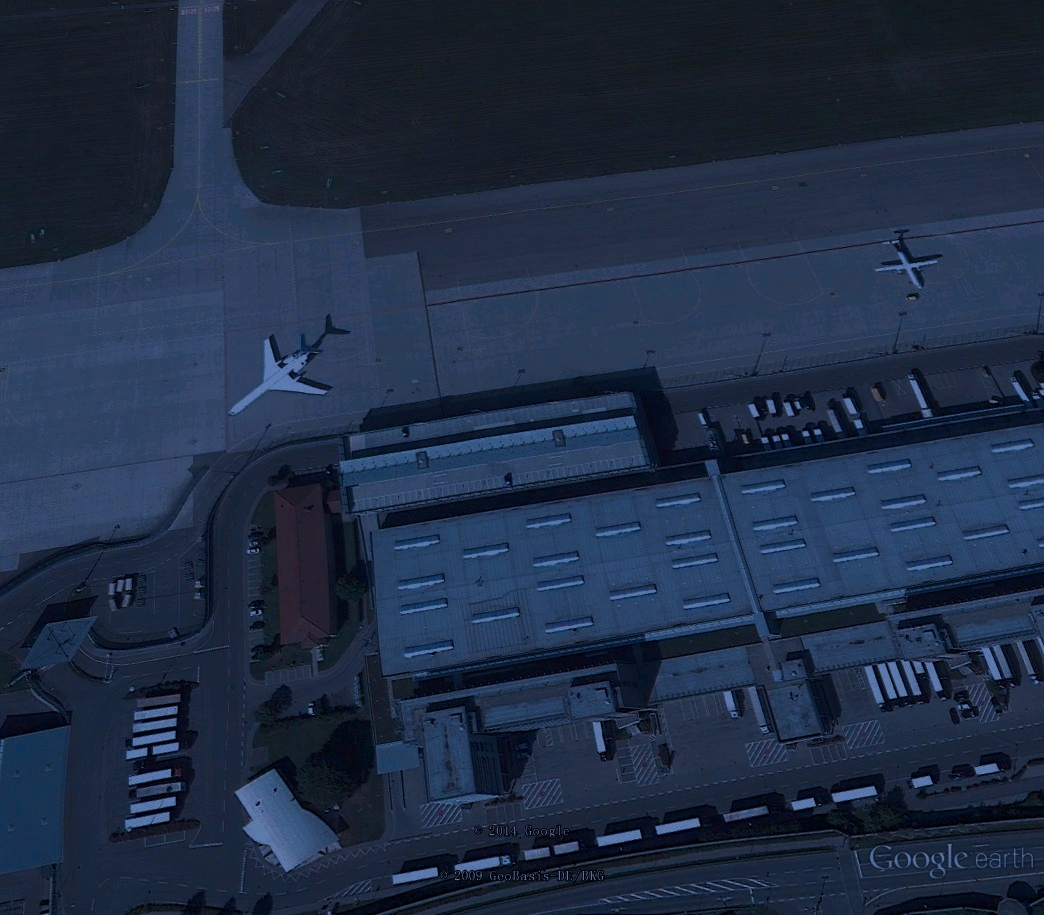aircraft: (223, 331, 339, 420), (871, 235, 948, 294)
